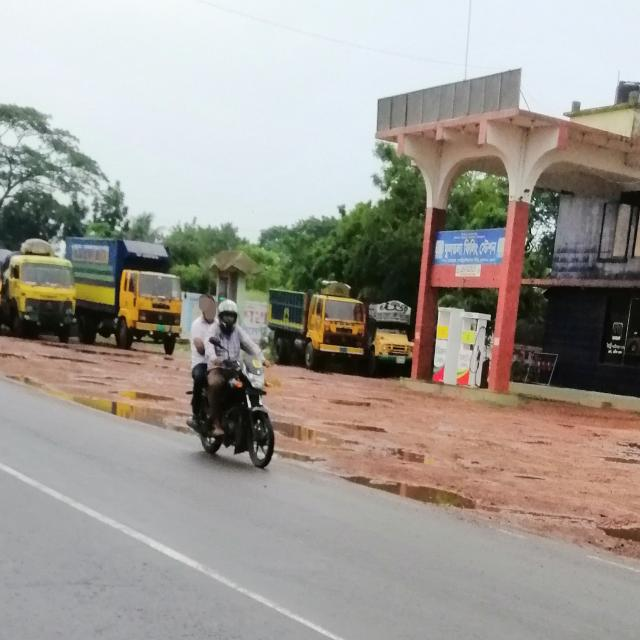Motorbike: (184, 332, 277, 472)
Truck: (81, 238, 185, 358), (4, 230, 79, 349), (268, 283, 366, 372), (367, 300, 414, 386)
